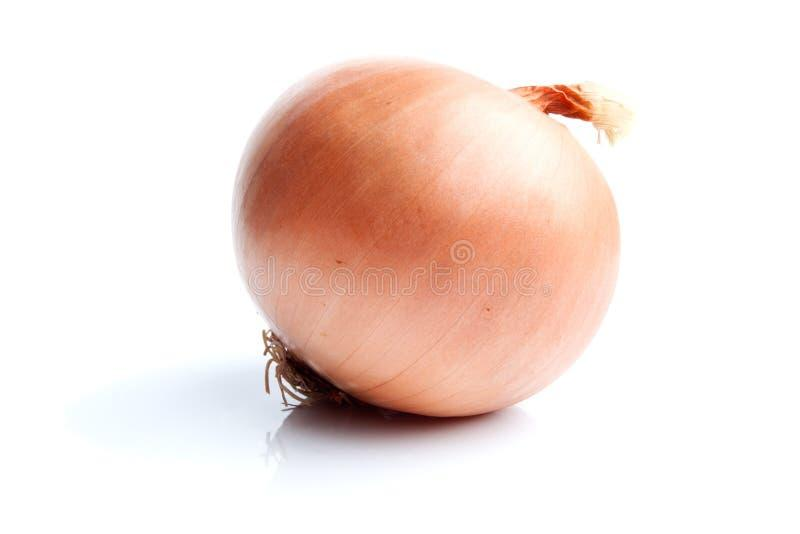Onion: (237, 60, 619, 416)
